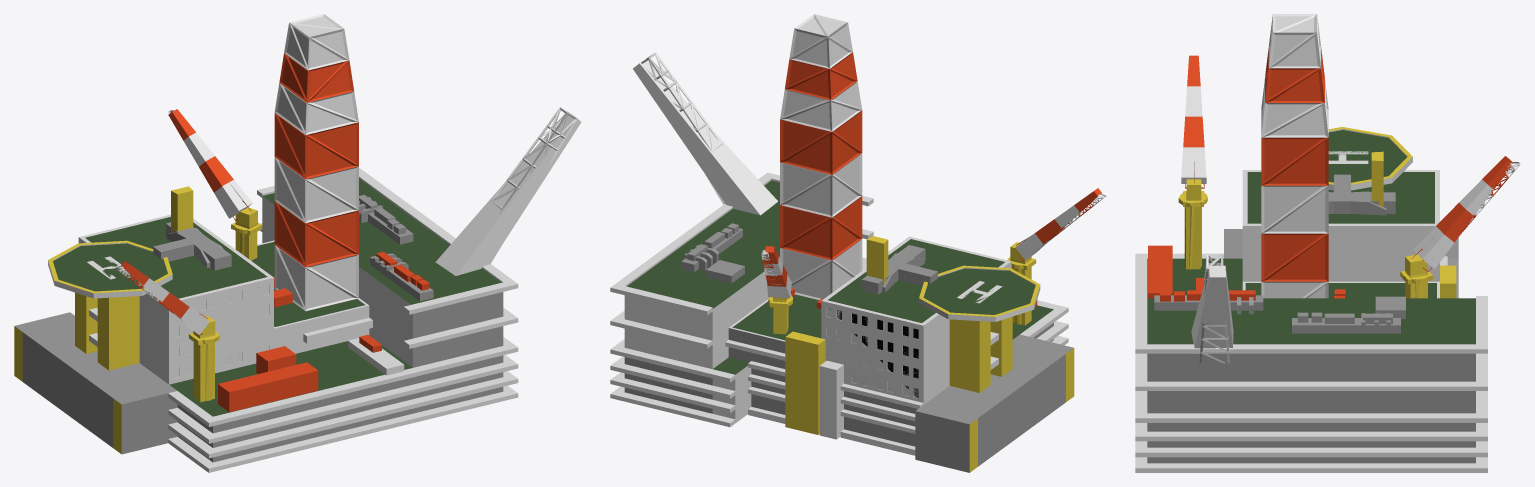
Rendered from bore.glb.
3 renders of one model, left to right at view 1: azimuth 30°, elevation 25°; view 2: azimuth 150°, elevation 25°; view 3: azimuth 270°, elevation 25°, orthographic. The views are drawn at different scales.
Visible parts, largest first — view 1: BoreRig.LOD.000, BoreRig.LOD.001, BoreRig.LOD.002; view 2: BoreRig.LOD.000, BoreRig.LOD.001, BoreRig.LOD.002; view 3: BoreRig.LOD.000, BoreRig.LOD.001, BoreRig.LOD.002.
Part boxes in pixels (x1,y1,x2,y2): BoreRig.LOD.000: (14, 14, 577, 472); BoreRig.LOD.001: (53, 16, 581, 400); BoreRig.LOD.002: (17, 119, 580, 452); BoreRig.LOD.000: (610, 14, 1105, 472); BoreRig.LOD.001: (633, 17, 1101, 412); BoreRig.LOD.002: (633, 61, 1071, 459); BoreRig.LOD.000: (1135, 14, 1520, 472); BoreRig.LOD.001: (1178, 16, 1513, 353); BoreRig.LOD.002: (1147, 159, 1471, 463).
Bounding box in the file's own units: 160 × 114 × 104.
